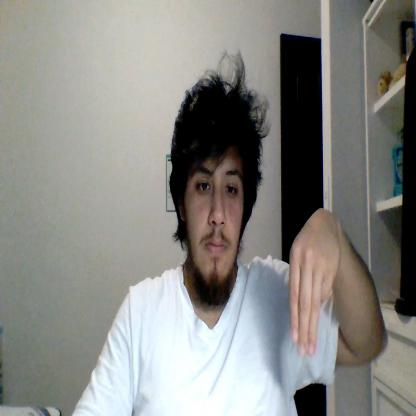M: (288, 207, 341, 356)
